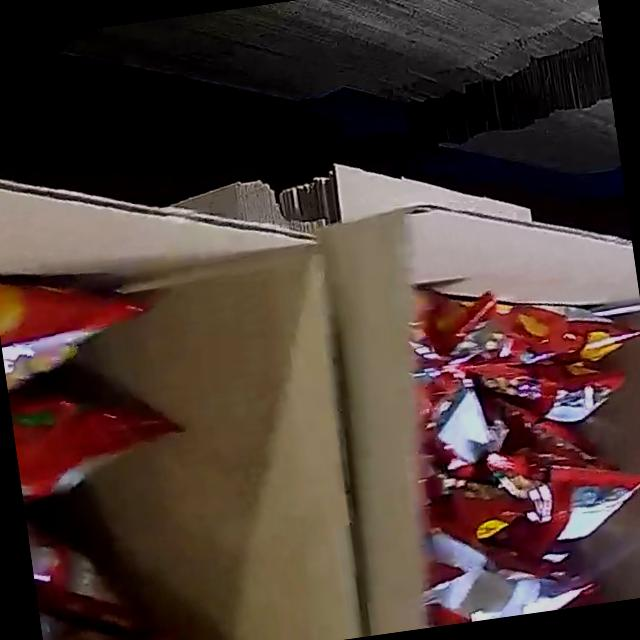masala: (362, 255, 640, 630), (0, 227, 217, 640)
